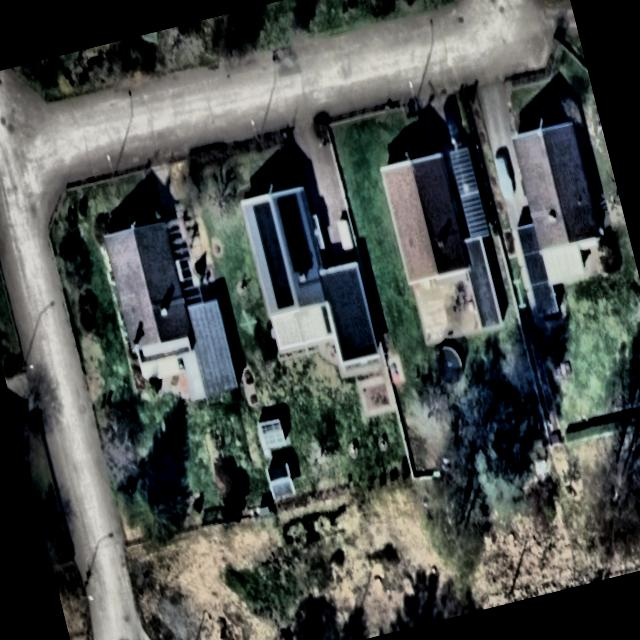roof_pv: (248, 196, 298, 312), (274, 190, 312, 274)
